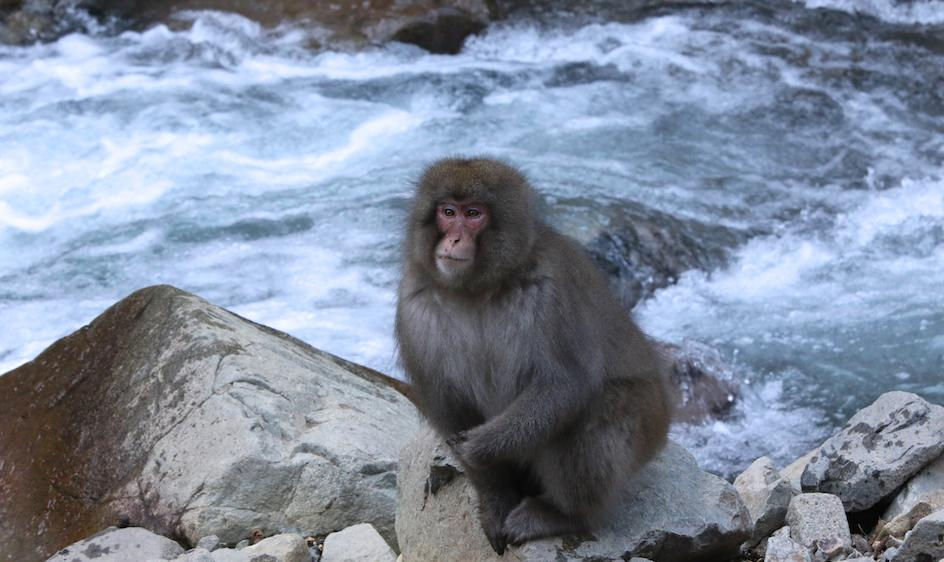monkey: (392, 158, 716, 562)
